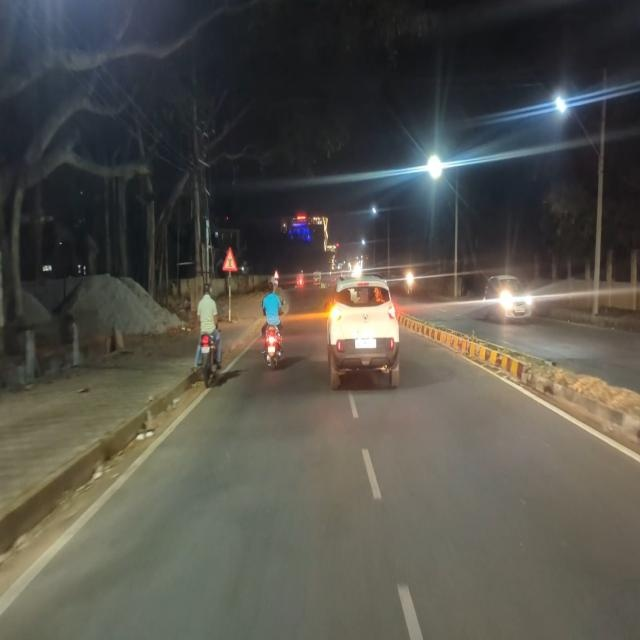bien_nguy_hiem: (222, 245, 238, 272)
